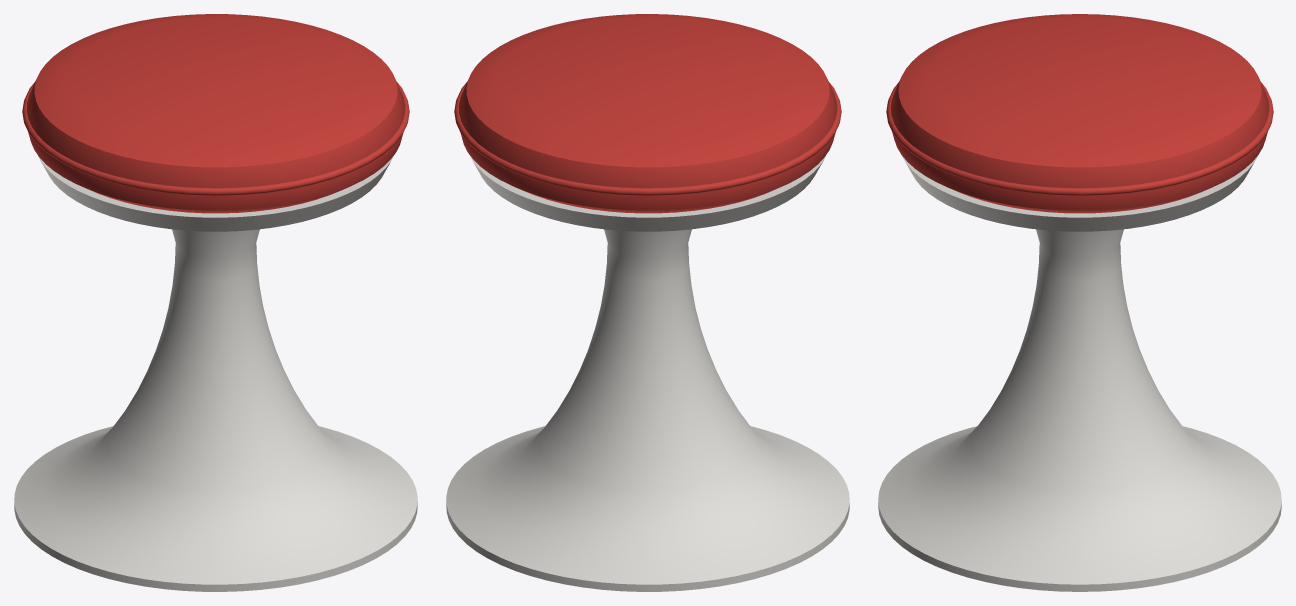
File: tulip_stool.glb
The picture shows the model from 3 angles, left to right: view 1: azimuth 30°, elevation 25°; view 2: azimuth 150°, elevation 25°; view 3: azimuth 270°, elevation 25°; orthographic projection.
Parts seen in each view (by area): view 1: Tulip, Cushion, Piping; view 2: Tulip, Cushion, Piping; view 3: Tulip, Cushion, Piping.
Boxes of the visible parts, x1=… form: Tulip: x1=14, y1=156, x2=417, y2=591; Cushion: x1=26, y1=14, x2=405, y2=213; Piping: x1=22, y1=82, x2=409, y2=195; Tulip: x1=446, y1=156, x2=849, y2=591; Cushion: x1=458, y1=14, x2=837, y2=213; Piping: x1=454, y1=82, x2=841, y2=195; Tulip: x1=878, y1=156, x2=1281, y2=591; Cushion: x1=890, y1=14, x2=1269, y2=213; Piping: x1=886, y1=82, x2=1273, y2=195.
Size of the model in its own units: 0.4 by 0.468 by 0.4.
